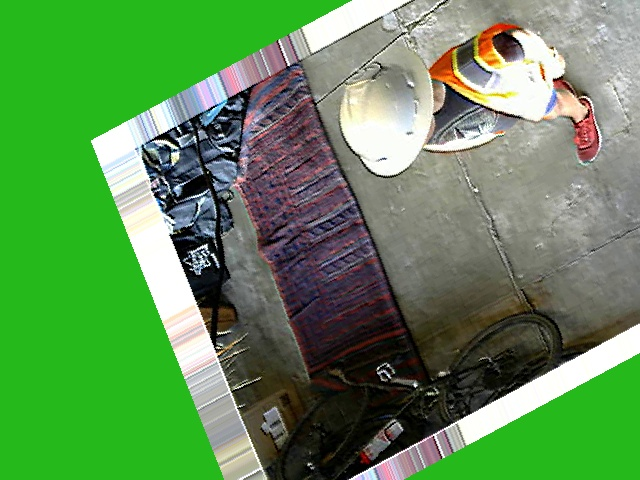two: (342, 59, 382, 91)
